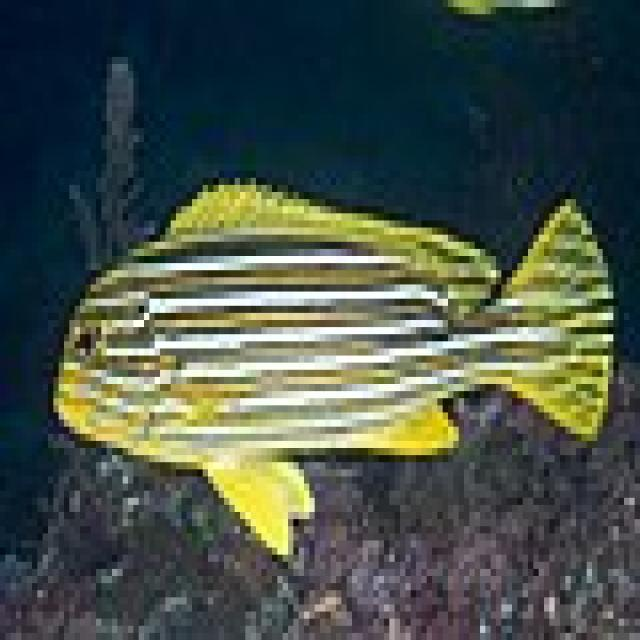RibbonedSweetlips: (48, 170, 619, 554)
